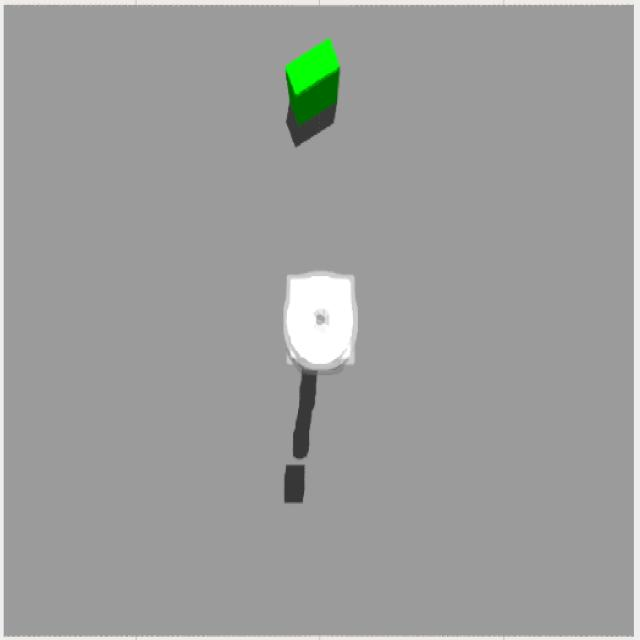box: (286, 39, 338, 145)
